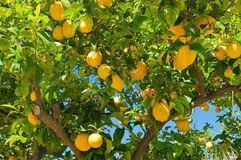lemon: (174, 45, 197, 70), (176, 19, 193, 43), (196, 16, 216, 34), (153, 102, 170, 122), (130, 60, 146, 80), (74, 132, 90, 152), (50, 2, 66, 20), (62, 20, 76, 38), (227, 41, 241, 58), (88, 50, 102, 66), (110, 74, 124, 90), (164, 25, 178, 41), (79, 16, 92, 33), (98, 64, 111, 80), (88, 133, 102, 147), (214, 44, 226, 60), (114, 95, 126, 111), (72, 46, 87, 58), (158, 51, 170, 66), (28, 111, 40, 126), (176, 119, 189, 132), (143, 86, 156, 99), (52, 26, 64, 40), (224, 66, 233, 78), (98, 0, 112, 6), (31, 90, 38, 102), (202, 103, 209, 112), (207, 141, 212, 149)
